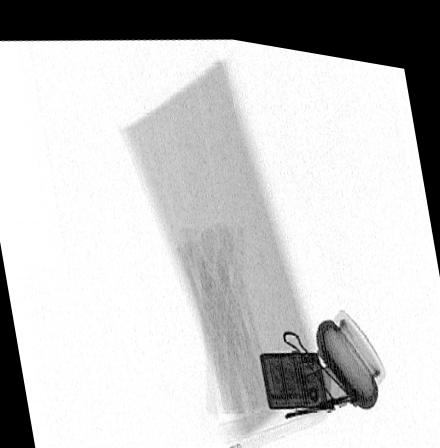Lighter: (258, 338, 328, 399)
